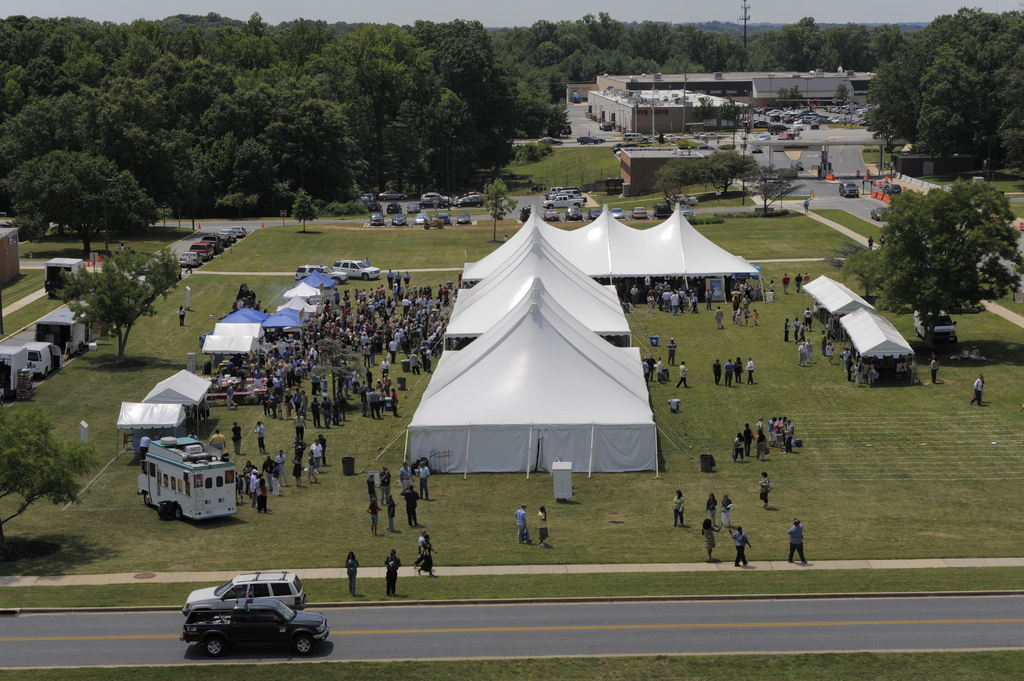cars: (181, 601, 331, 652), (185, 575, 298, 610)
